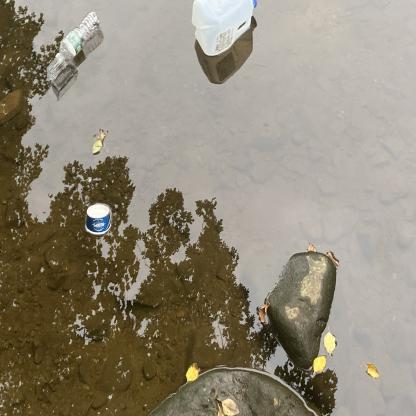trash: (188, 0, 260, 60), (55, 3, 107, 68), (82, 198, 118, 242), (46, 46, 68, 86)
